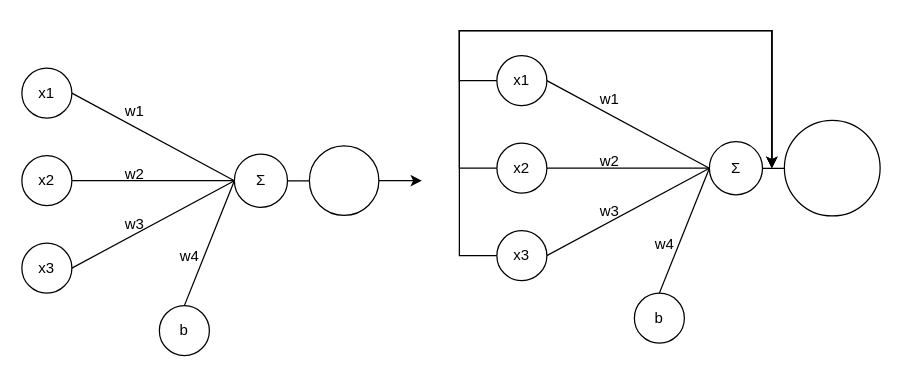
Image size: 913x378. Some labels were removed from this diagram. Here are the shapes that lost their labels. From the top down, the centre of each, then its label:
At [343,180]: "σ(Wx + b)".
At [831,167]: "x + σ(Wx + b)".
